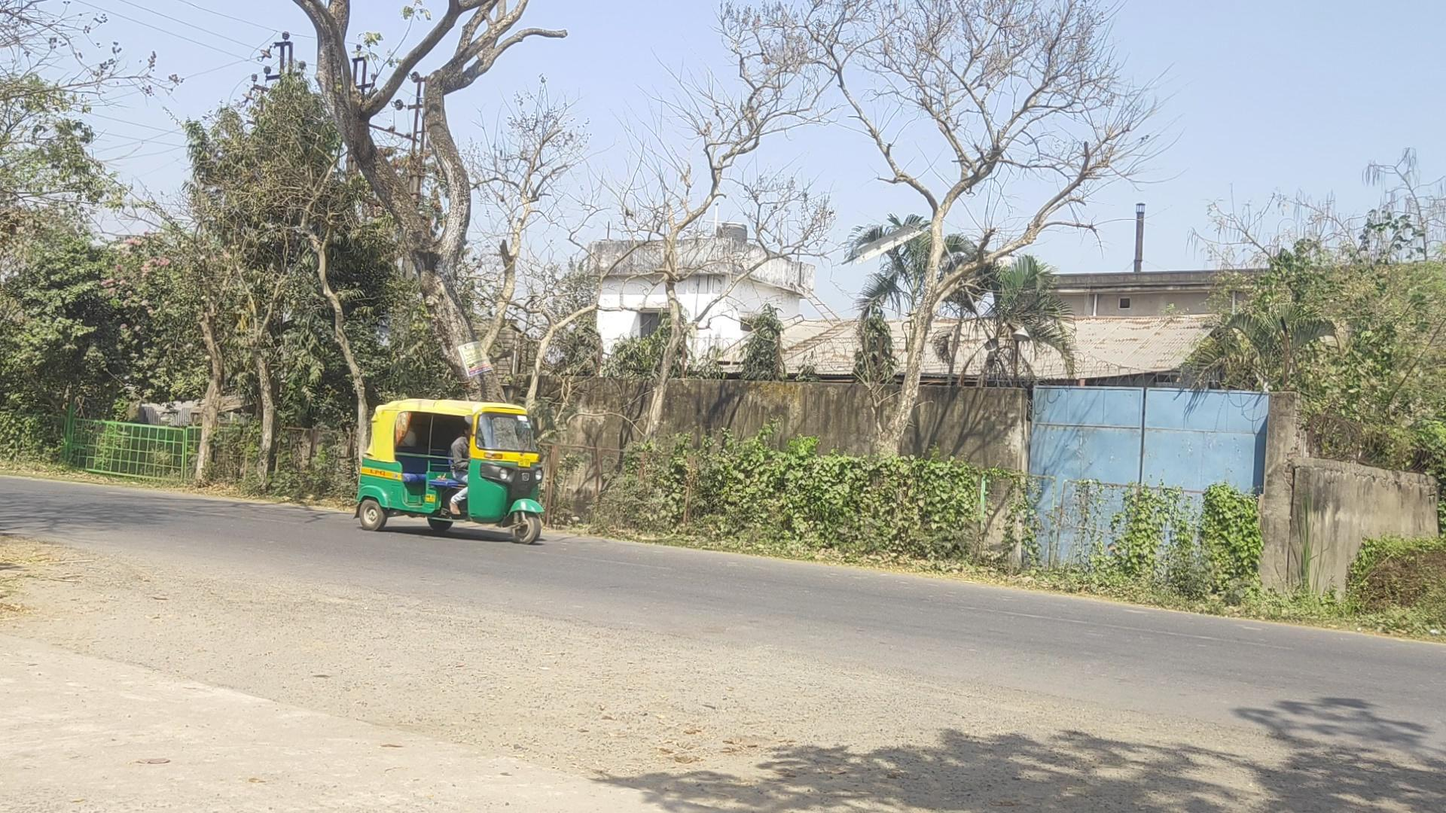Auto: (354, 398, 544, 546)
